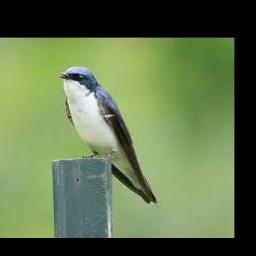Swallow: (57, 67, 158, 204)
